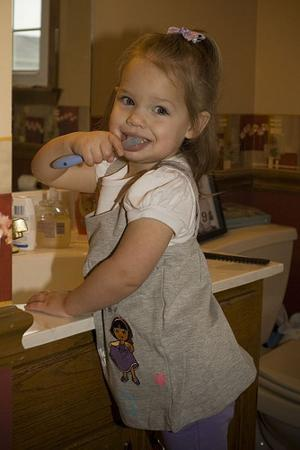person: (29, 26, 260, 449)
